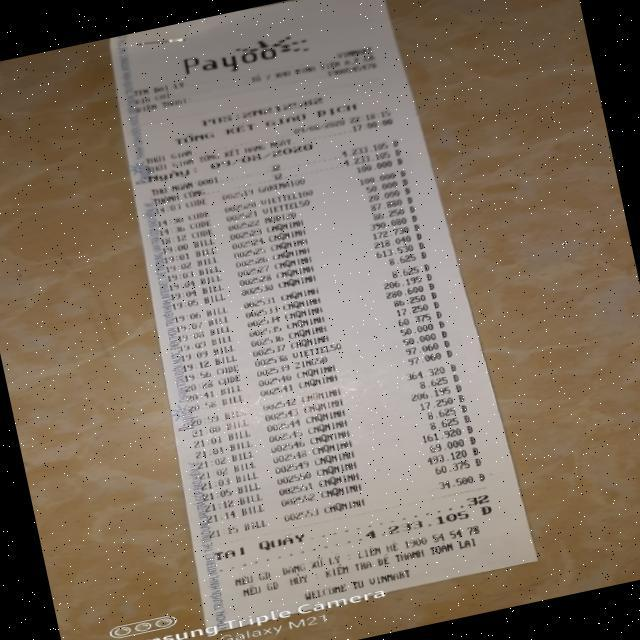Date: (208, 140, 317, 173)
Store_Name: (178, 36, 282, 84)
amount_number: (358, 504, 472, 542)
label_total: (211, 529, 309, 562)
